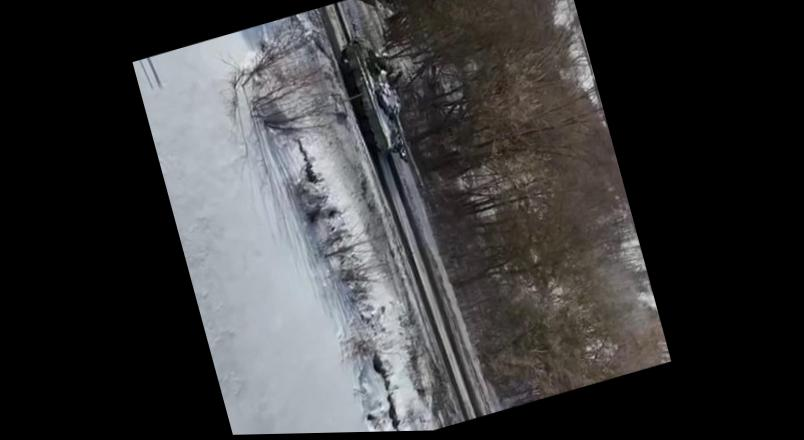tank: (336, 23, 435, 209)
